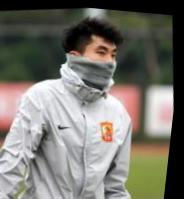WRONG: (80, 38, 124, 91)
